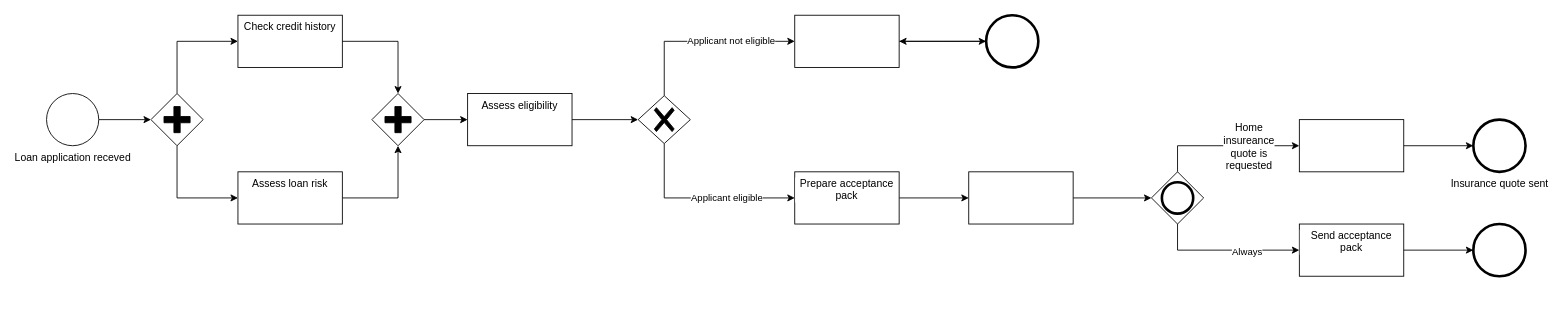
Image size: 1565x310. Some labels were removed from this diagram. Each missing label, with the centre of its shape:
"Acceptance pack sent" belongs at (x=1499, y=249).
"Check if home insureance quote is requested" belongs at (x=1020, y=197).
"Reject application" belongs at (x=846, y=40).
"Send home insurance quote" belongs at (x=1351, y=145).
